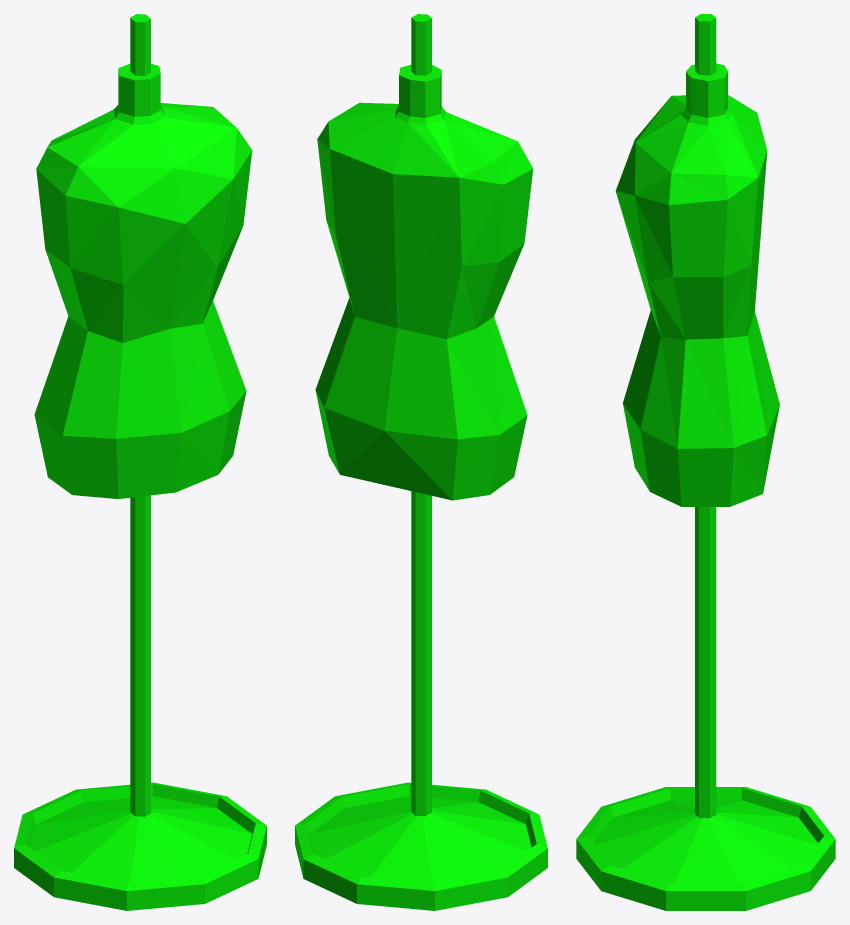
The model's file is SM_Mannequin_Tailor_Fantasy.fbx.
The picture shows the model from 3 angles, left to right: view 1: azimuth 30°, elevation 25°; view 2: azimuth 150°, elevation 25°; view 3: azimuth 270°, elevation 25°; orthographic projection.
Visible parts, largest first — view 1: mannequin-tailor-fantasy; view 2: mannequin-tailor-fantasy; view 3: mannequin-tailor-fantasy.
Part boxes in pixels (bbox=[...]): mannequin-tailor-fantasy: bbox=[14, 14, 266, 910]; mannequin-tailor-fantasy: bbox=[295, 14, 547, 910]; mannequin-tailor-fantasy: bbox=[576, 14, 835, 910].
Bounding box in the file's own units: 0.4343 × 1.64 × 0.4566.
